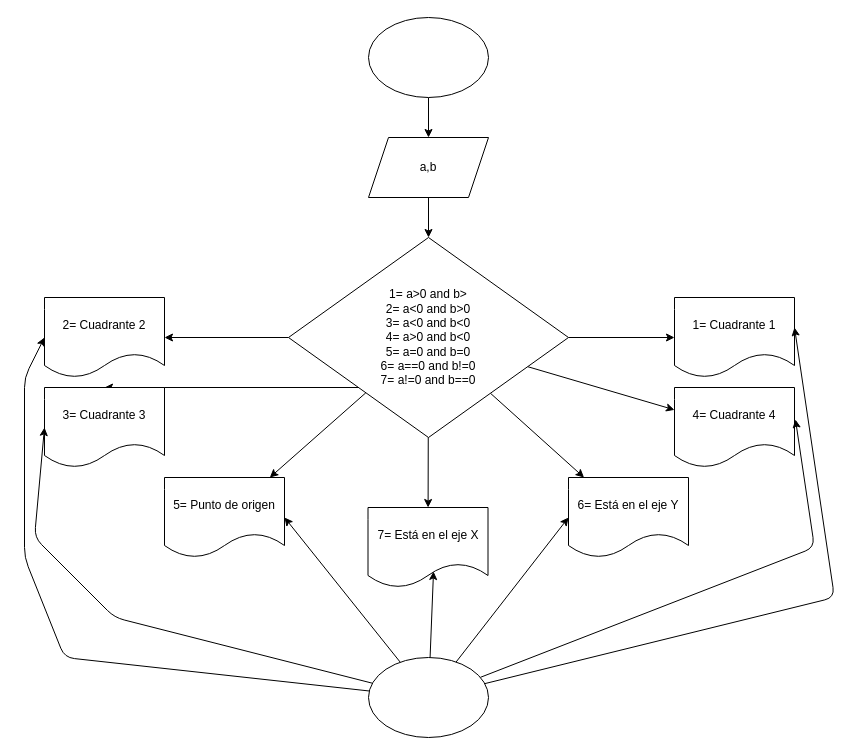
Image size: 860x755. Some labels were removed from this diagram. The shapes that lost their labels are listed below. From the top down, each one's centre as x and y in pixels, then its label:
At pixel 428 57: "Inicio".
At pixel 428 697: "Fin".
